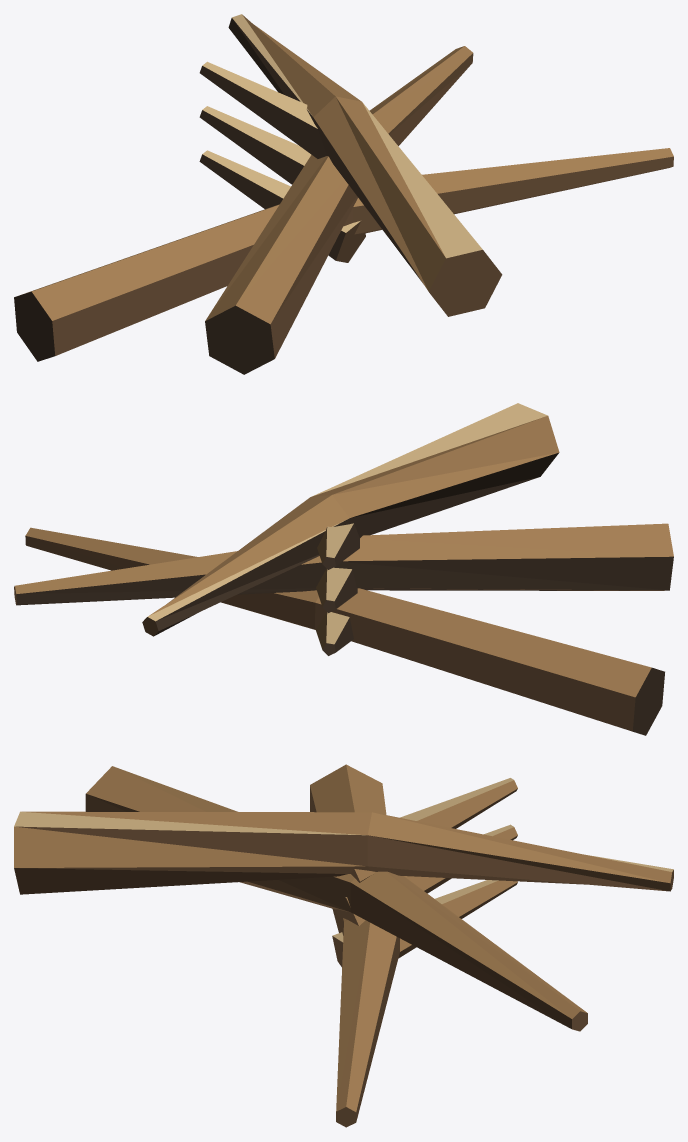
The model's file is TW_PROP_BRANCH_PILE_A_LOD0.glb.
3 renders of one model, top to bottom at view 1: azimuth 30°, elevation 25°; view 2: azimuth 150°, elevation 25°; view 3: azimuth 270°, elevation 25°, orthographic. The views are drawn at different scales.
Visible parts, largest first — view 1: TW_PROP_BRANCH_PILE_A_LOD0; view 2: TW_PROP_BRANCH_PILE_A_LOD0; view 3: TW_PROP_BRANCH_PILE_A_LOD0.
Boxes of the visible parts, <box> form: TW_PROP_BRANCH_PILE_A_LOD0: <box>14,14,673,374</box>; TW_PROP_BRANCH_PILE_A_LOD0: <box>14,403,673,735</box>; TW_PROP_BRANCH_PILE_A_LOD0: <box>14,764,673,1127</box>.
Bounding box in the file's own units: 1.21 × 0.3275 × 1.02.
1 material, 1 textured.
